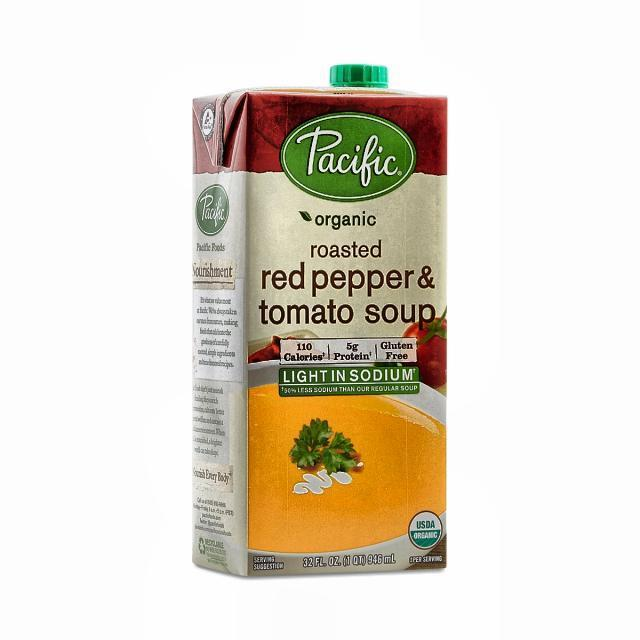cardboard: (190, 78, 448, 576)
